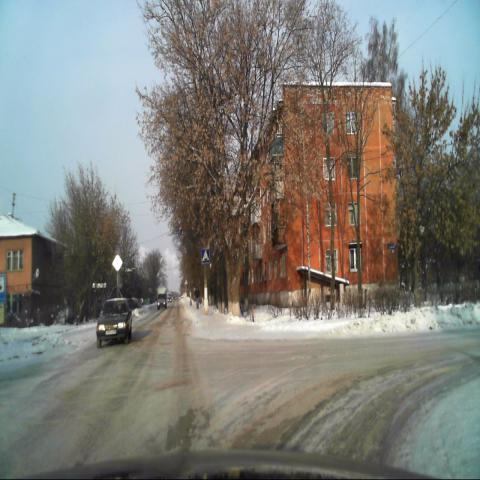5_20: (201, 249, 210, 263)
